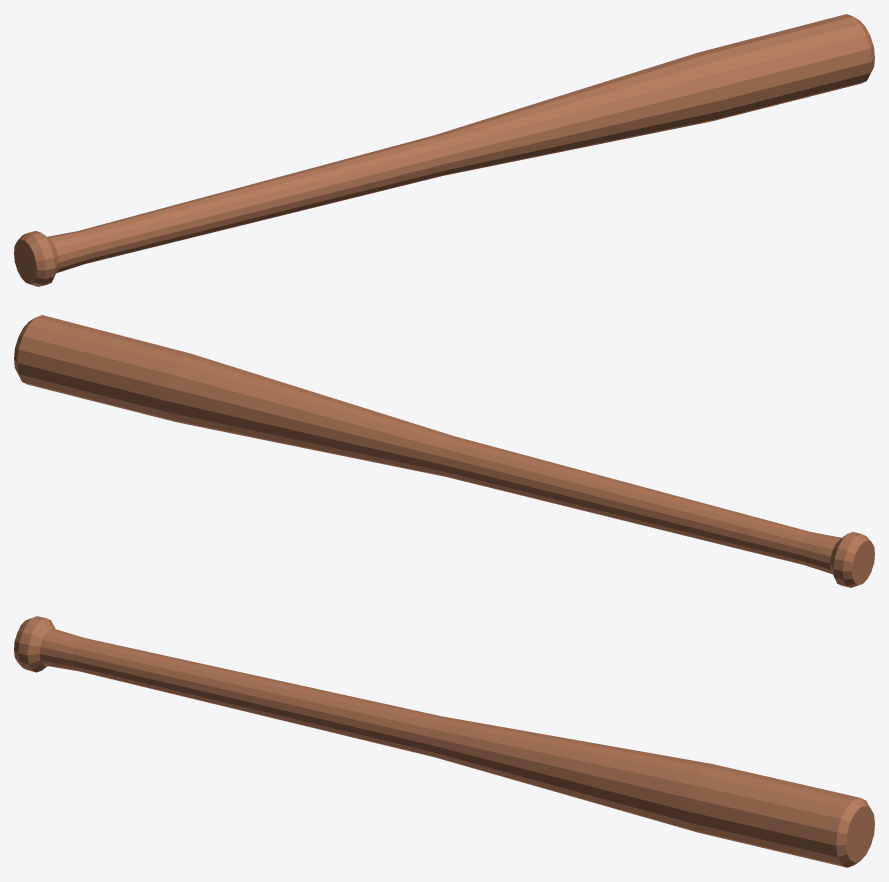
Rendered from Baseball Bat.fbx.
3 renders of one model, top to bottom at view 1: azimuth 30°, elevation 25°; view 2: azimuth 150°, elevation 25°; view 3: azimuth 330°, elevation 25°, orthographic.
Visible parts, largest first — view 1: Baseball Bat; view 2: Baseball Bat; view 3: Baseball Bat.
Part boxes in pixels (x1=…): Baseball Bat: x1=14, y1=14, x2=874, y2=286; Baseball Bat: x1=14, y1=315, x2=874, y2=587; Baseball Bat: x1=14, y1=616, x2=874, y2=867.
Size of the model in its own units: 175 by 13.7 by 13.
